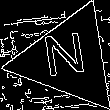N_S: (43, 31, 93, 88)
